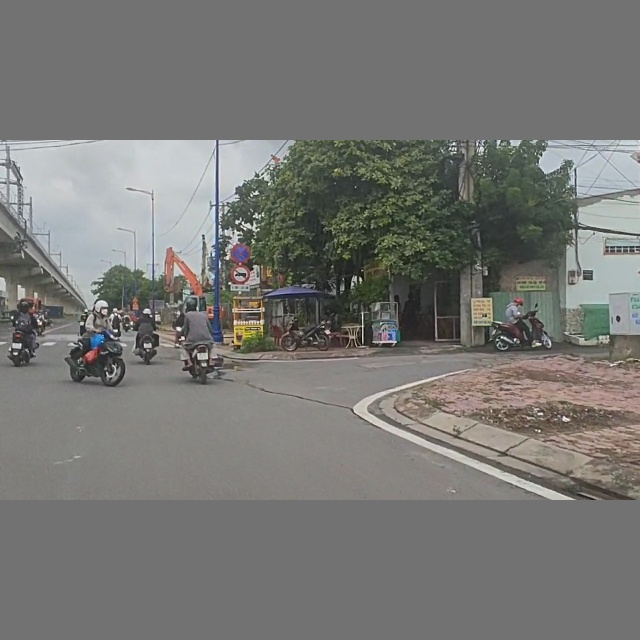B.8a: (231, 265, 252, 283)
P.130: (231, 243, 253, 262)
